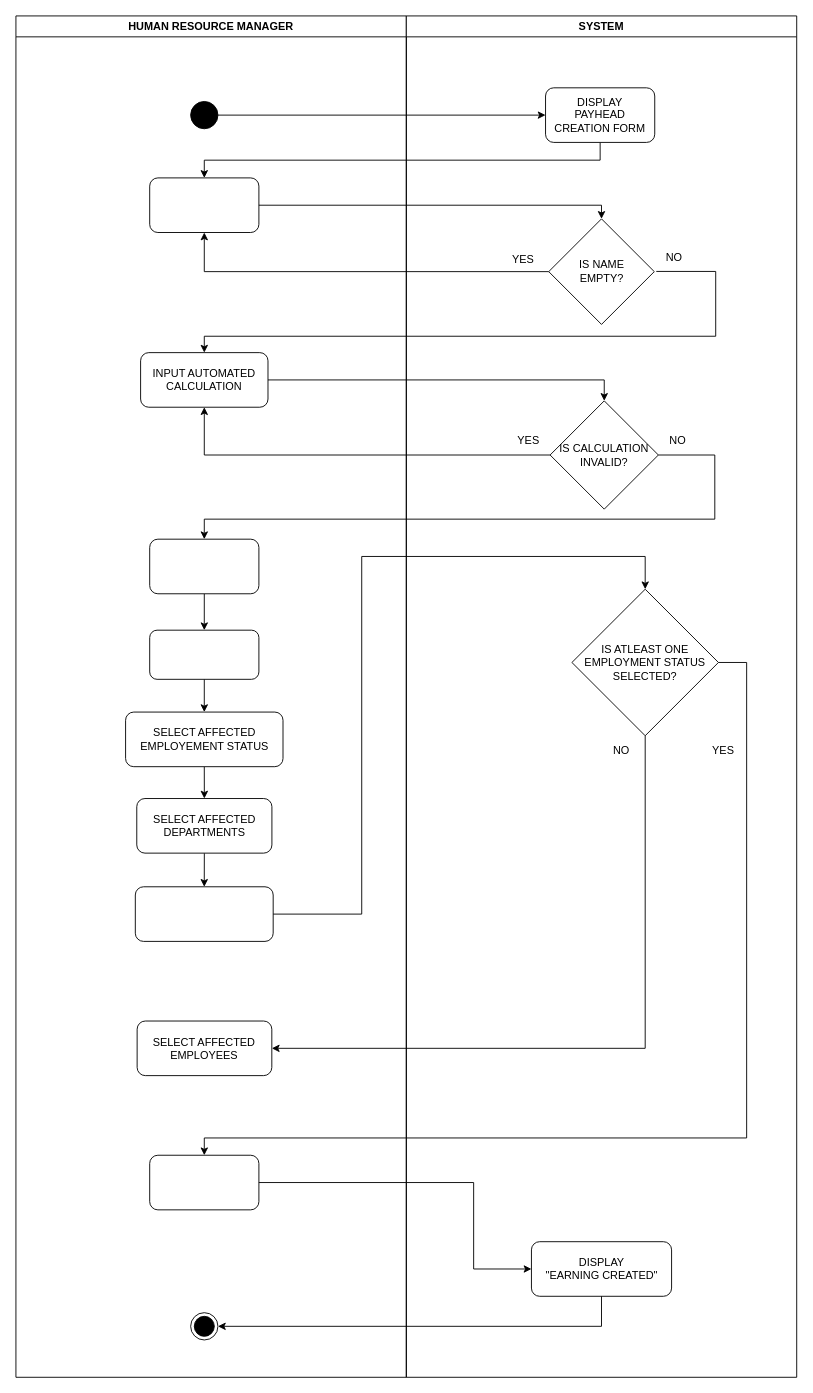
Some shapes in this 813 by 1393 pixel diagram are drawn without their labels. Here are the shapes that lost their labels. From the top down, the box of each, then its label:
(149, 177, 259, 233): INPUT NAME
(149, 538, 259, 594): SET AMOUNT WRITABLE STATE
(149, 629, 259, 679): SET ACTIVE STATE
(134, 886, 273, 941): SELECT AFFECTED POSITIONS
(149, 1154, 259, 1210): CLICK SUBMIT
